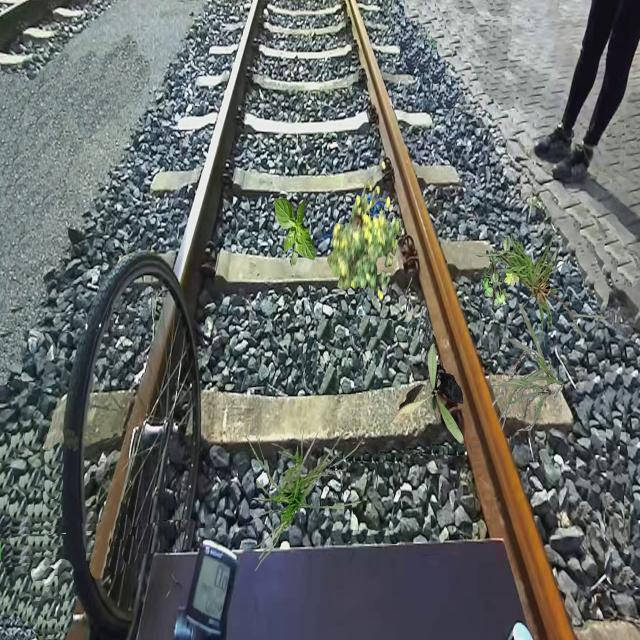Plant: (245, 408, 364, 572), (463, 230, 606, 350), (327, 161, 402, 301), (492, 306, 565, 431), (392, 343, 464, 442), (274, 196, 316, 267), (482, 236, 520, 310)
